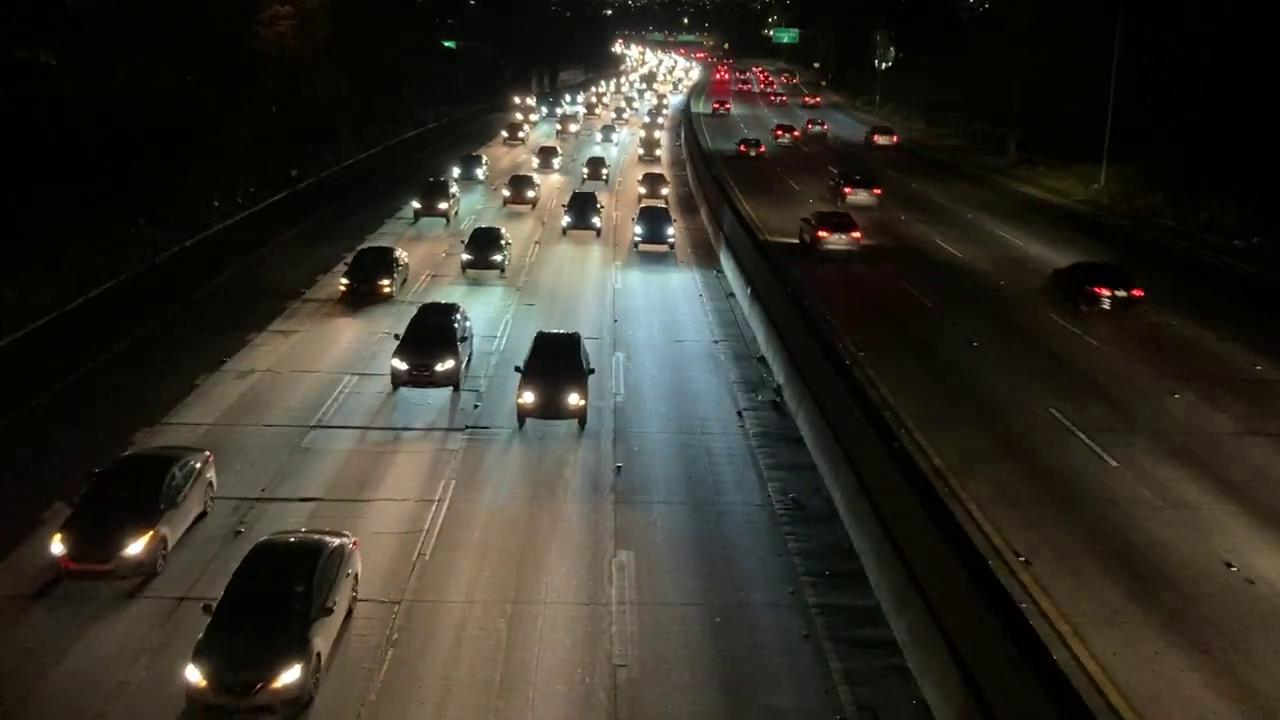car: (177, 529, 369, 717), (46, 441, 228, 572), (387, 297, 489, 397), (514, 323, 601, 434), (1043, 251, 1160, 313), (334, 239, 421, 299), (624, 199, 688, 267), (826, 160, 892, 220), (554, 184, 607, 243), (408, 173, 467, 220), (798, 211, 864, 251), (456, 226, 514, 269), (495, 175, 549, 206), (446, 149, 497, 178), (525, 141, 571, 173), (629, 172, 674, 203), (577, 154, 612, 189), (499, 118, 537, 147), (767, 120, 804, 149), (730, 136, 765, 166), (864, 123, 898, 149), (803, 116, 831, 140), (795, 91, 821, 116), (710, 97, 733, 114)
